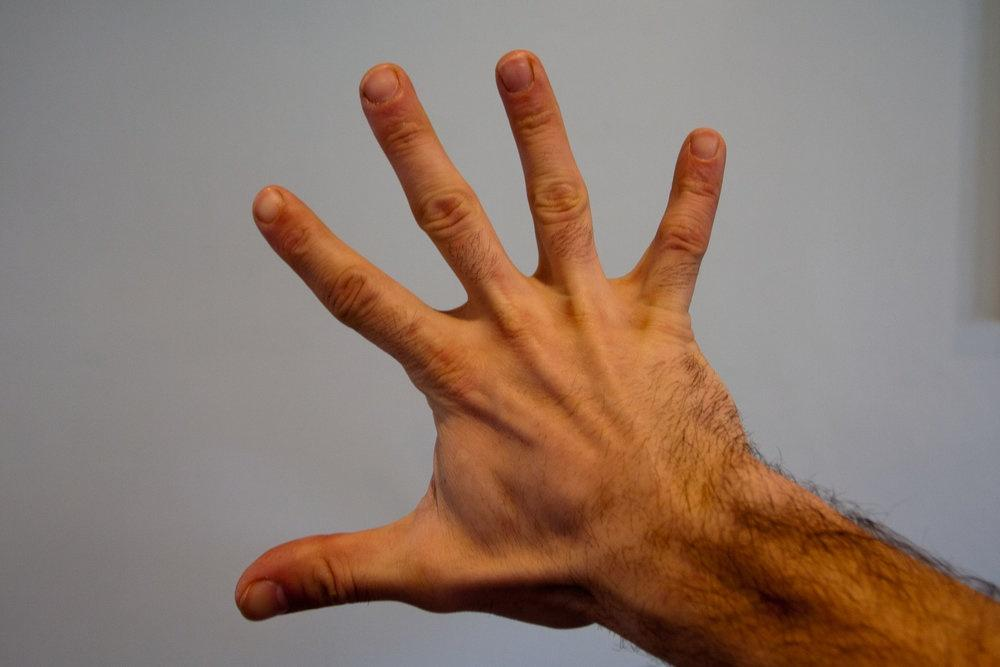palm: (232, 46, 728, 626)
